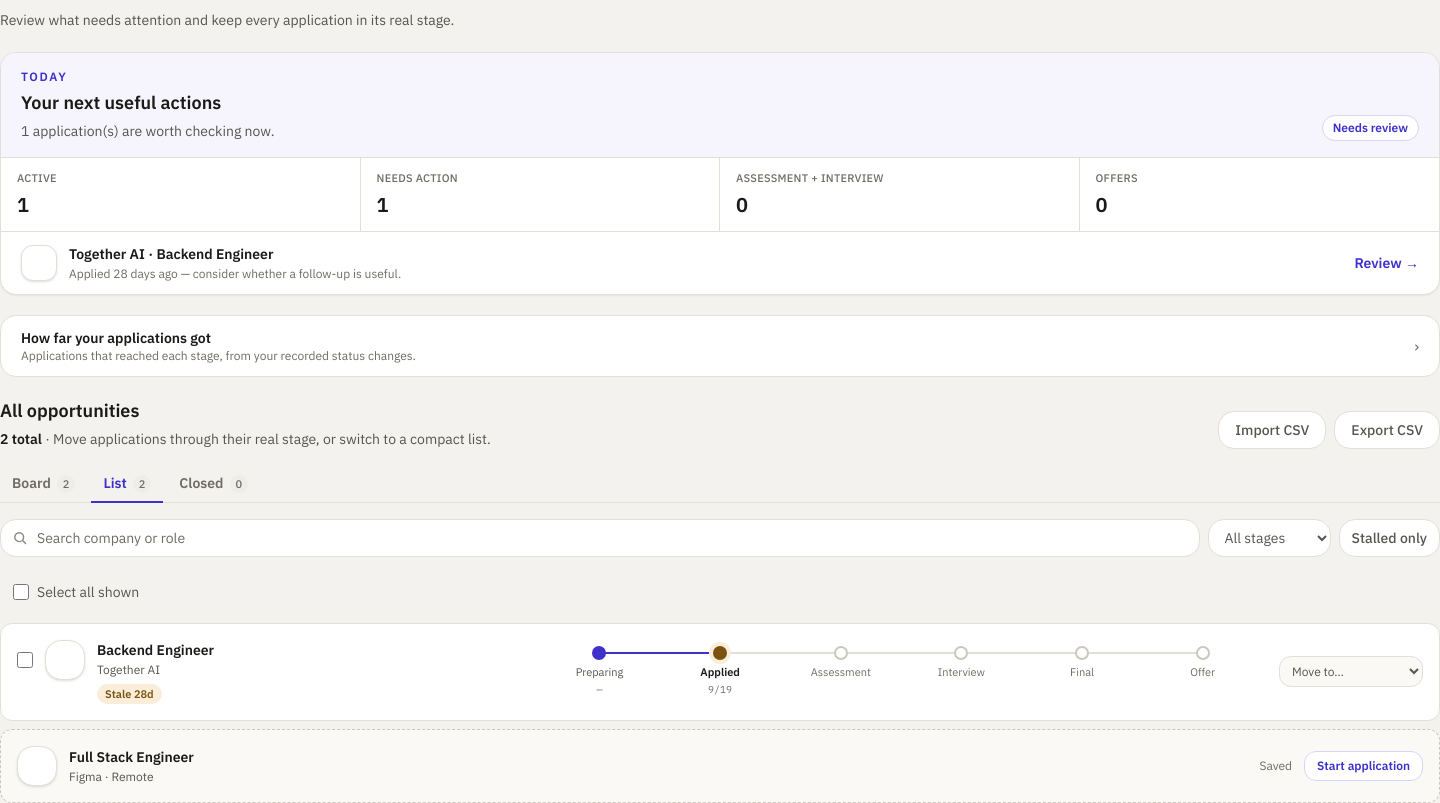
Test: PipelineView › starts an application from a saved row in the list view
(page scrolled)
What coordinates should you click on to do the following:
click the button "Start application"
I would click on:
 (1364, 766)
Its box is x1=1304 y1=751 x2=1423 y2=781.
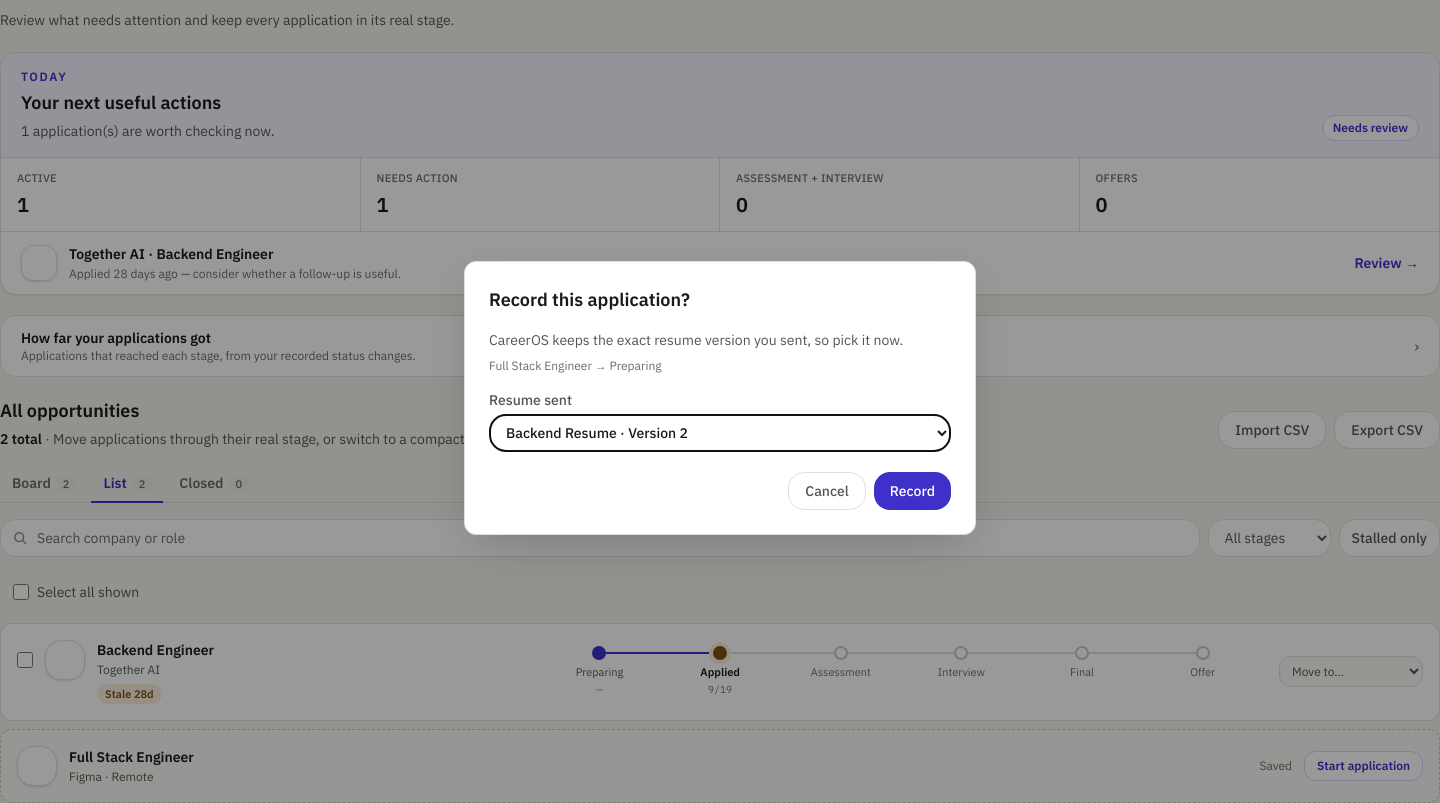
Expected: the heading "Record this application?" is shown, x1=489 y1=288 x2=690 y2=311
